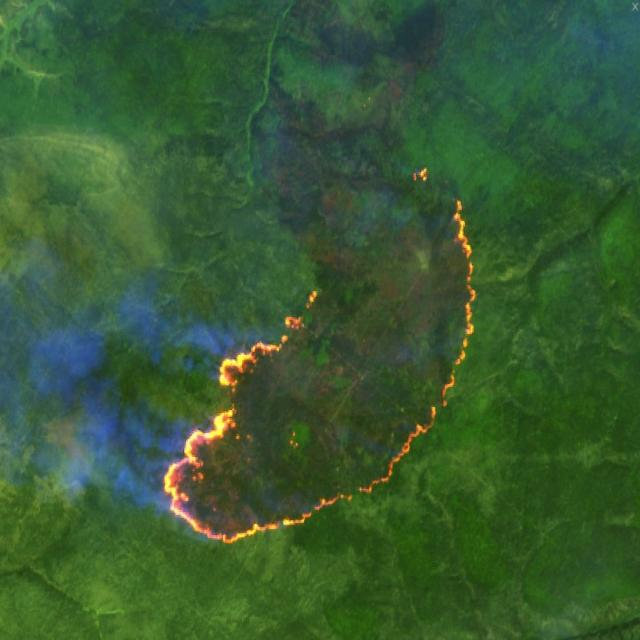fire: (156, 155, 479, 548)
